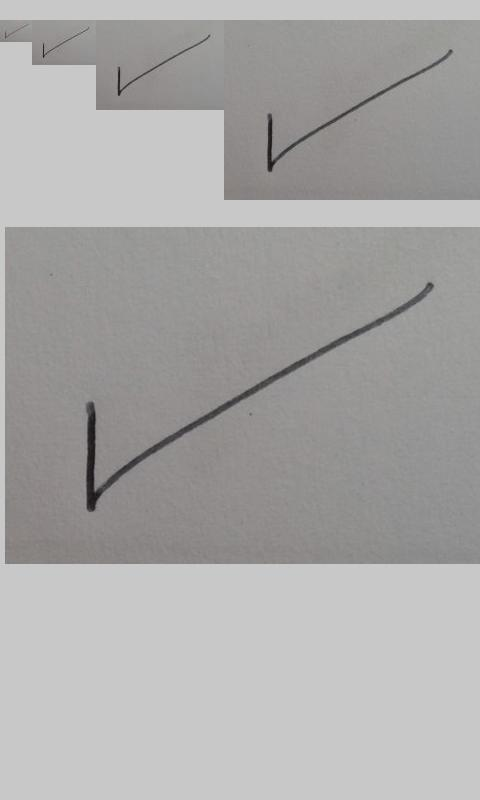check_box: (84, 287, 429, 513), (265, 49, 451, 173), (117, 35, 210, 96), (42, 28, 89, 57), (4, 24, 28, 39)
